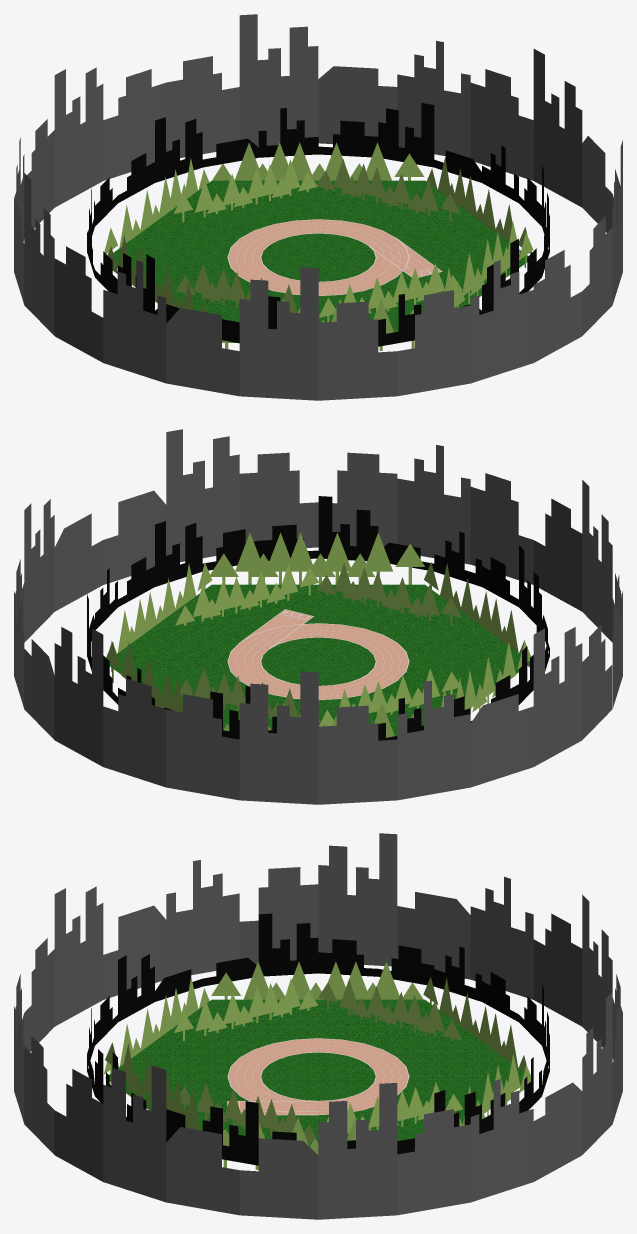
File: track.gltf
3 views of the same model, one above another, from view 1: azimuth 30°, elevation 25°; view 2: azimuth 150°, elevation 25°; view 3: azimuth 270°, elevation 25° (orthographic).
Parts seen in each view (by area): view 1: group_1, group_28, group_1.001, group_33, group_4, group_37, group_40, group_5, group_31, group_30, group_29, group_38 (+20 smaller); view 2: group_1, group_28, group_31, group_1.001, group_36, group_38, group_12, group_7, group_29, group_32, group_41, SketchUp.013 (+17 smaller); view 3: group_1, group_28, group_1.001, group_34, group_15, group_41, group_39, group_7, group_30, group_32, group_36, group_14 (+19 smaller).
Part boxes in pixels (x1,y1,x2,y2): group_1: (14, 14, 622, 400); group_28: (113, 180, 528, 332); group_1.001: (54, 246, 103, 362); group_33: (212, 142, 391, 180); group_4: (378, 103, 434, 167); group_37: (195, 159, 317, 216); group_40: (317, 159, 438, 216); group_5: (155, 117, 202, 182); group_31: (444, 221, 533, 307); group_30: (119, 158, 209, 247); group_29: (426, 157, 512, 241); group_38: (344, 263, 462, 313); group_1: (14, 429, 622, 804); group_28: (109, 584, 529, 736); group_31: (210, 532, 392, 584); group_1.001: (582, 625, 612, 739); group_36: (175, 564, 298, 625); group_38: (317, 563, 439, 620); group_12: (318, 496, 378, 561); group_7: (155, 521, 202, 586); group_29: (109, 564, 196, 671); group_32: (440, 563, 529, 667); group_41: (319, 668, 439, 726); SketchUp.013: (236, 627, 400, 696); group_1: (14, 833, 622, 1219); group_28: (105, 999, 524, 1146); group_1.001: (239, 867, 318, 964); group_34: (243, 961, 423, 999); group_15: (258, 913, 318, 976); group_41: (339, 979, 462, 1040); group_39: (195, 978, 318, 1035); group_7: (202, 1101, 258, 1165); group_30: (439, 977, 526, 1071); group_32: (119, 976, 209, 1066); group_36: (196, 1083, 318, 1144); group_14: (118, 954, 154, 1021).
Bounding box in the file's own units: 110 × 26.61 × 110.
7 materials, 1 textured.
